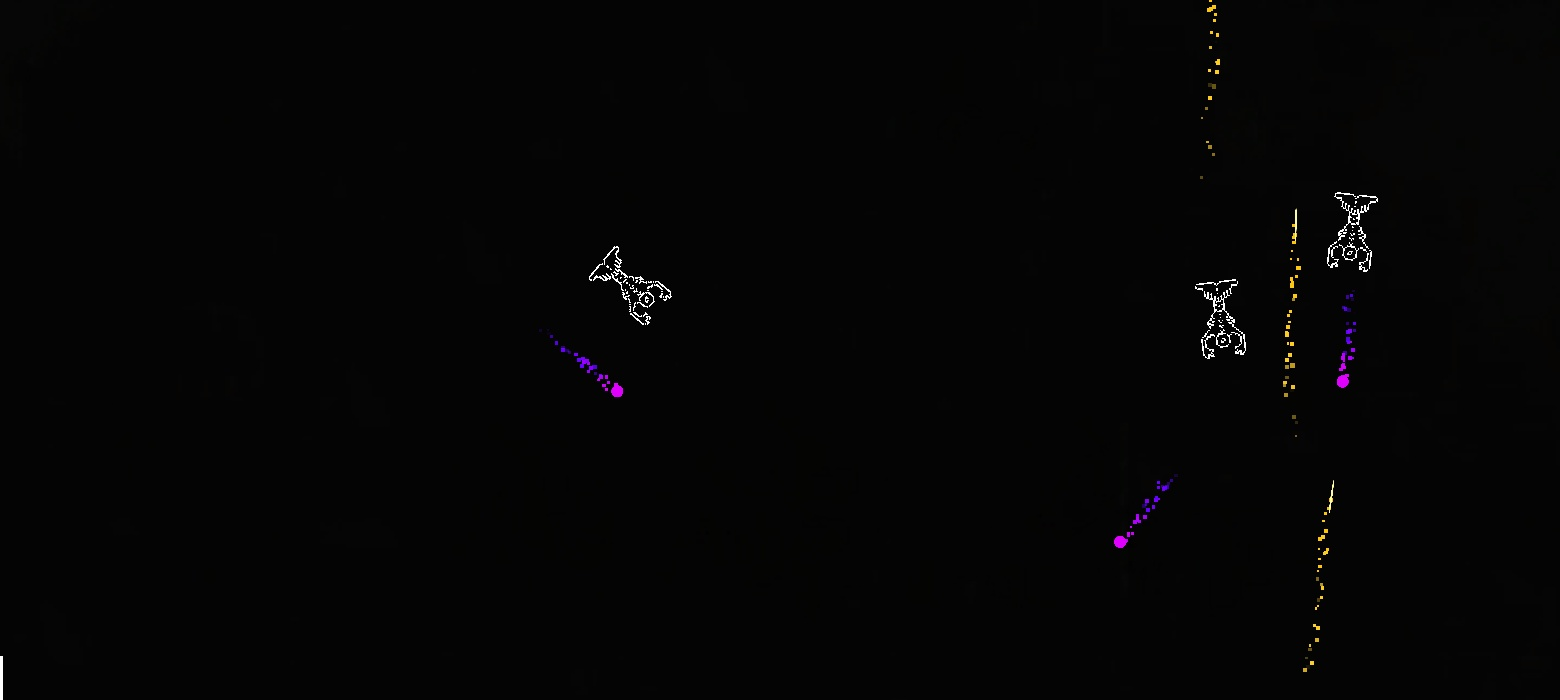enemy: (589, 246, 672, 325), (1327, 192, 1378, 273), (1195, 279, 1246, 359)
